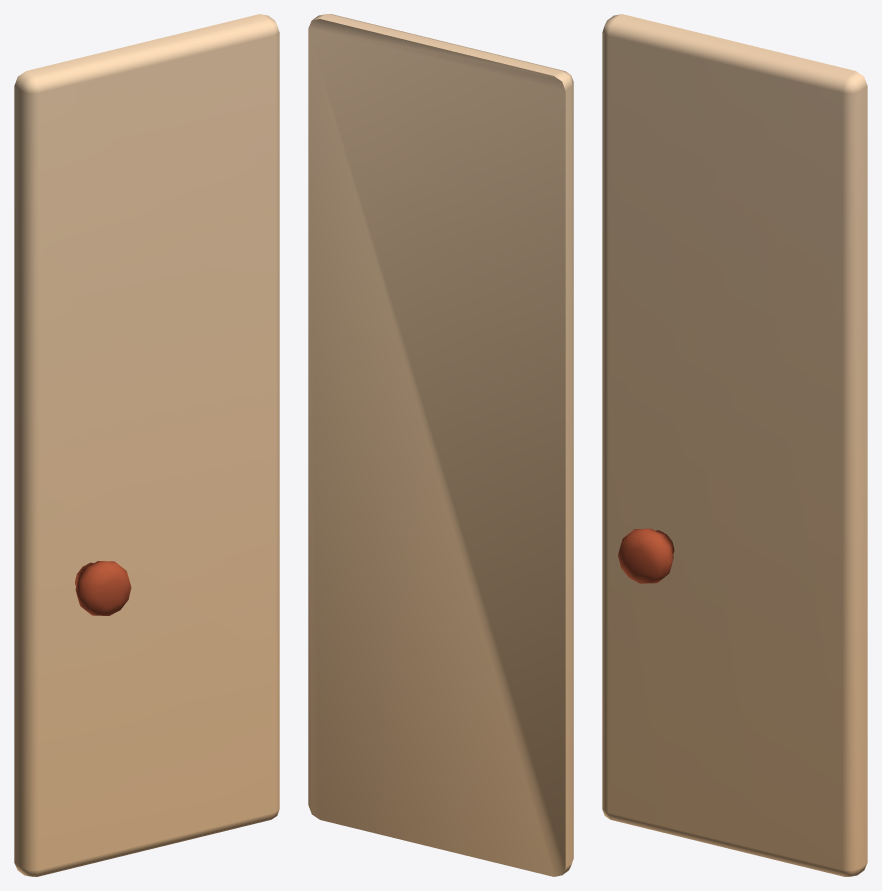
Rendered from Closet_09_Door_02.fbx.
The picture shows the model from 3 angles, left to right: view 1: azimuth 30°, elevation 25°; view 2: azimuth 150°, elevation 25°; view 3: azimuth 330°, elevation 25°; orthographic projection.
Parts seen in each view (by area): view 1: Closet_09_Door_02; view 2: Closet_09_Door_02; view 3: Closet_09_Door_02.
Boxes of the visible parts, <box> form: Closet_09_Door_02: <box>14,14,279,876</box>; Closet_09_Door_02: <box>308,14,573,876</box>; Closet_09_Door_02: <box>602,14,867,876</box>.
Bounding box in the file's own units: 33 × 7.98 × 98.17.
